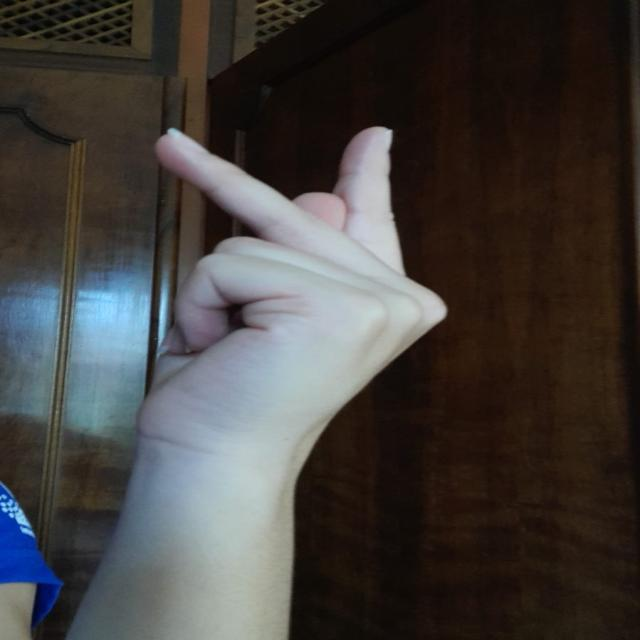K: (132, 98, 462, 450)
